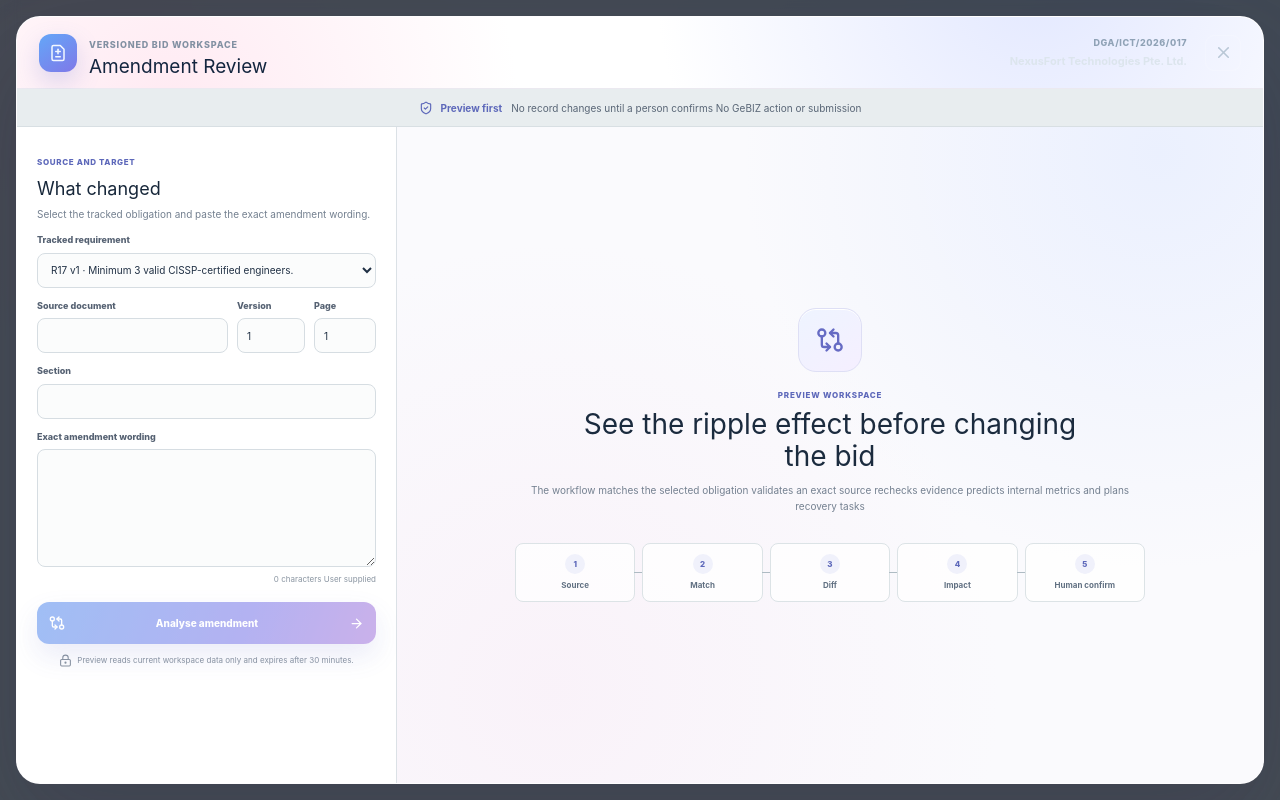
Test: fails closed on ambiguous wording and exposes a clarification draft
In the text box labelled "Exact amendment wording": (206, 508) [37,449,376,567], type "R17 now requires adequate suitably qualified standby resources as needed. Further details will be advised separately."
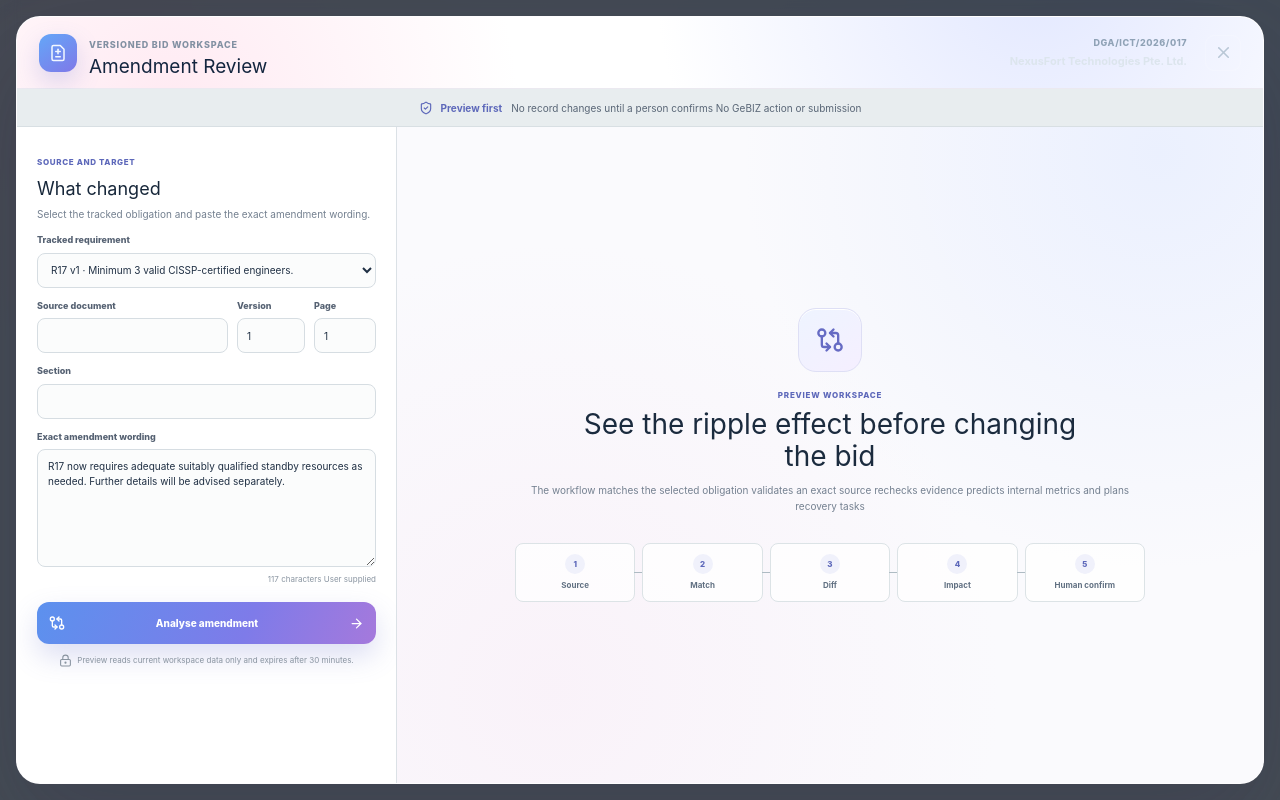
Click the button "Analyse amendment": (206, 623) [37,602,376,644]
(page scrolled)
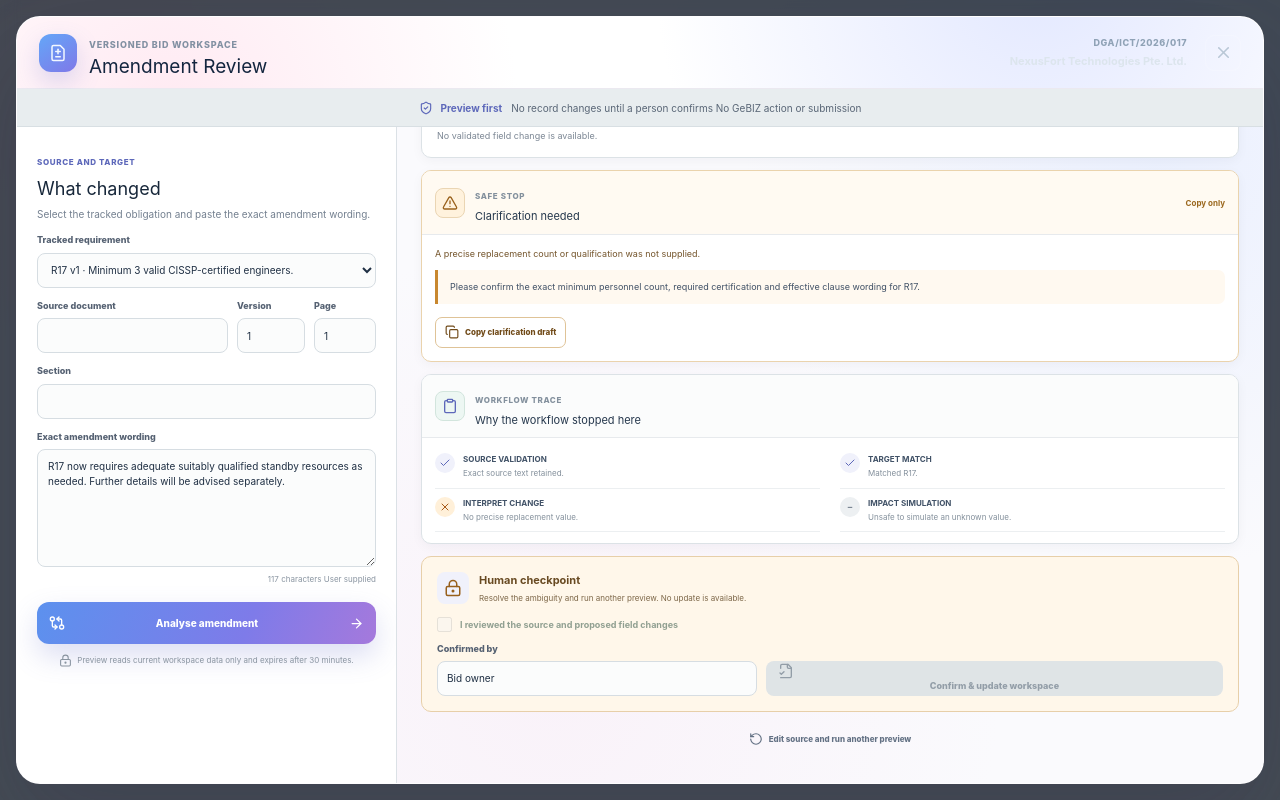
Expected: the heading "Clarification needed" is shown, [475,209,580,223]
Expected: the text "exact minimum personnel count" is shown, [450,281,920,292]
Expected: the checkbox is disabled, [437,617,452,632]
